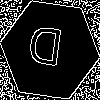D: (25, 25, 64, 76)
